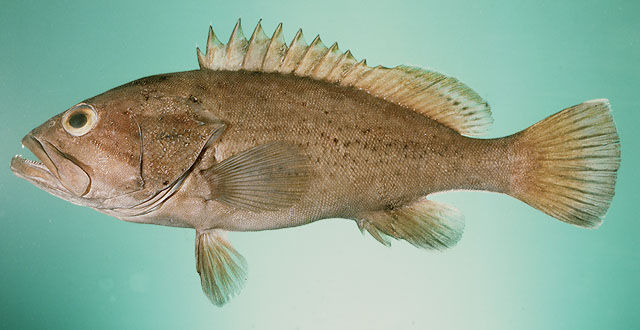fish: (9, 16, 622, 309)
